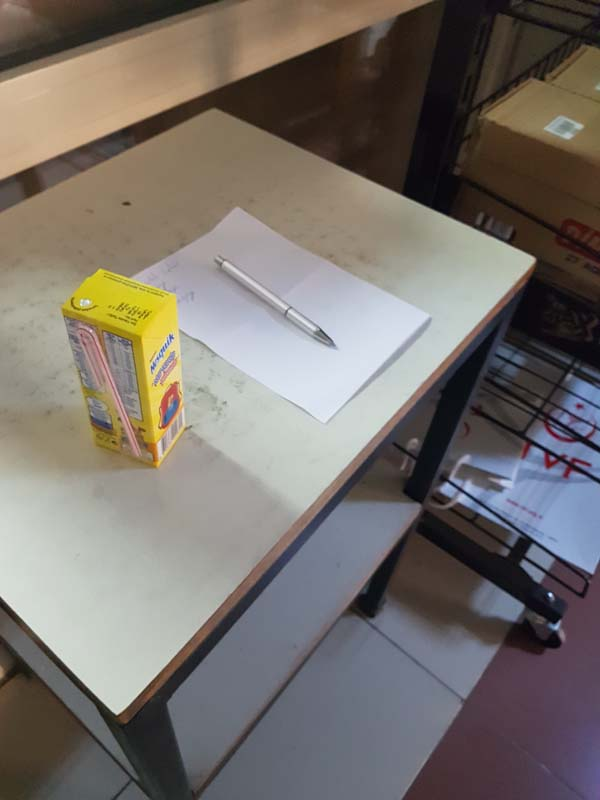nesquick200ml: (58, 265, 192, 471)
